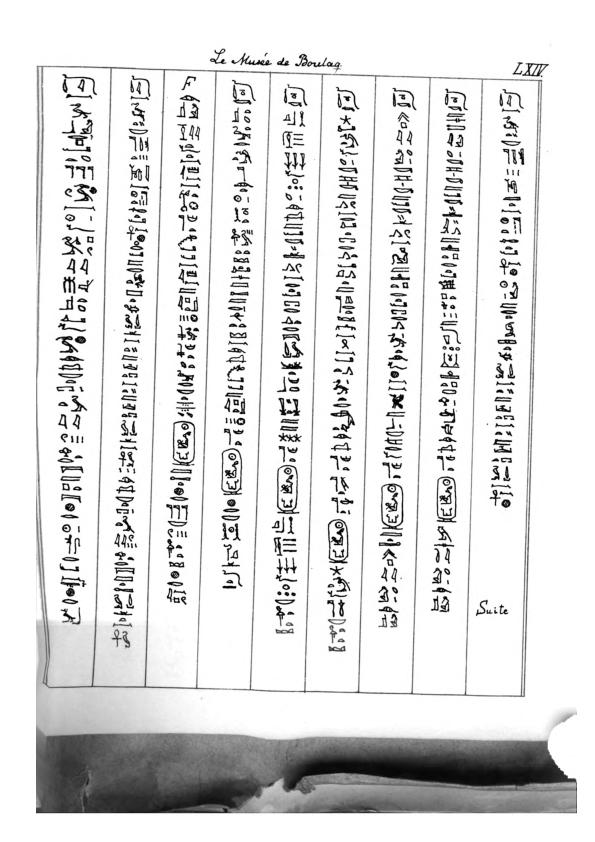circle: (271, 463, 303, 516), (322, 515, 352, 566), (378, 481, 407, 531), (219, 446, 246, 498), (170, 419, 198, 468), (435, 473, 460, 525)
